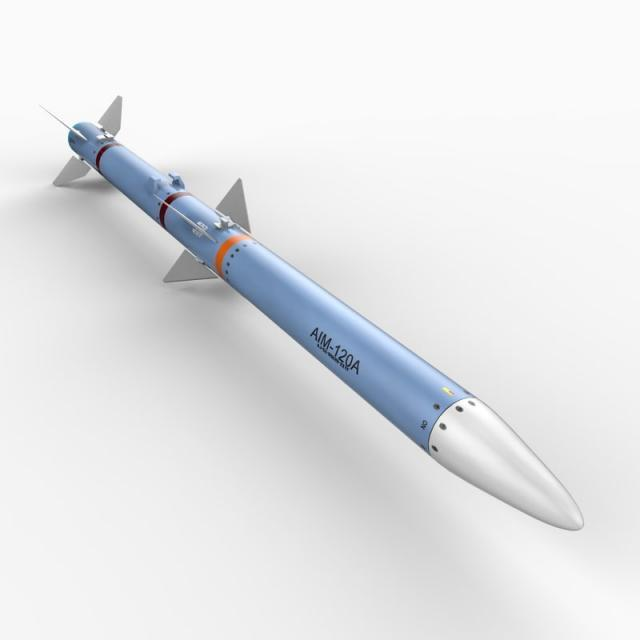missile: (18, 74, 583, 571)
